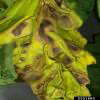Potato leaf early blight: (5, 1, 97, 99)
